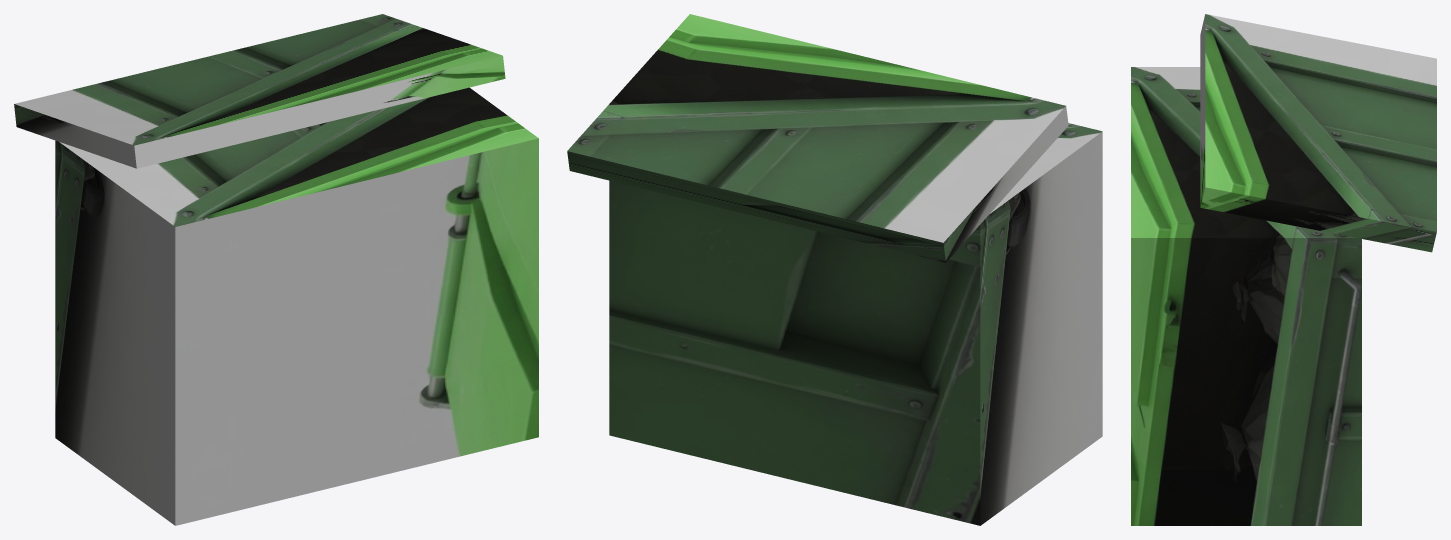
Rendered from dumpster.glb.
The picture shows the model from 3 angles, left to right: view 1: azimuth 30°, elevation 25°; view 2: azimuth 150°, elevation 25°; view 3: azimuth 270°, elevation 25°; orthographic projection. The views are drawn at different scales.
Visible parts, largest first — view 1: Cube; view 2: Cube; view 3: Cube.
Boxes of the visible parts, x1,y1,x2,y2 form: Cube: (14,14,538,525); Cube: (567,14,1102,525); Cube: (1131,14,1436,525).
Bounding box in the file's own units: 1.42 × 1.3 × 1.06.
Materials: 1 (1 with a texture image).
